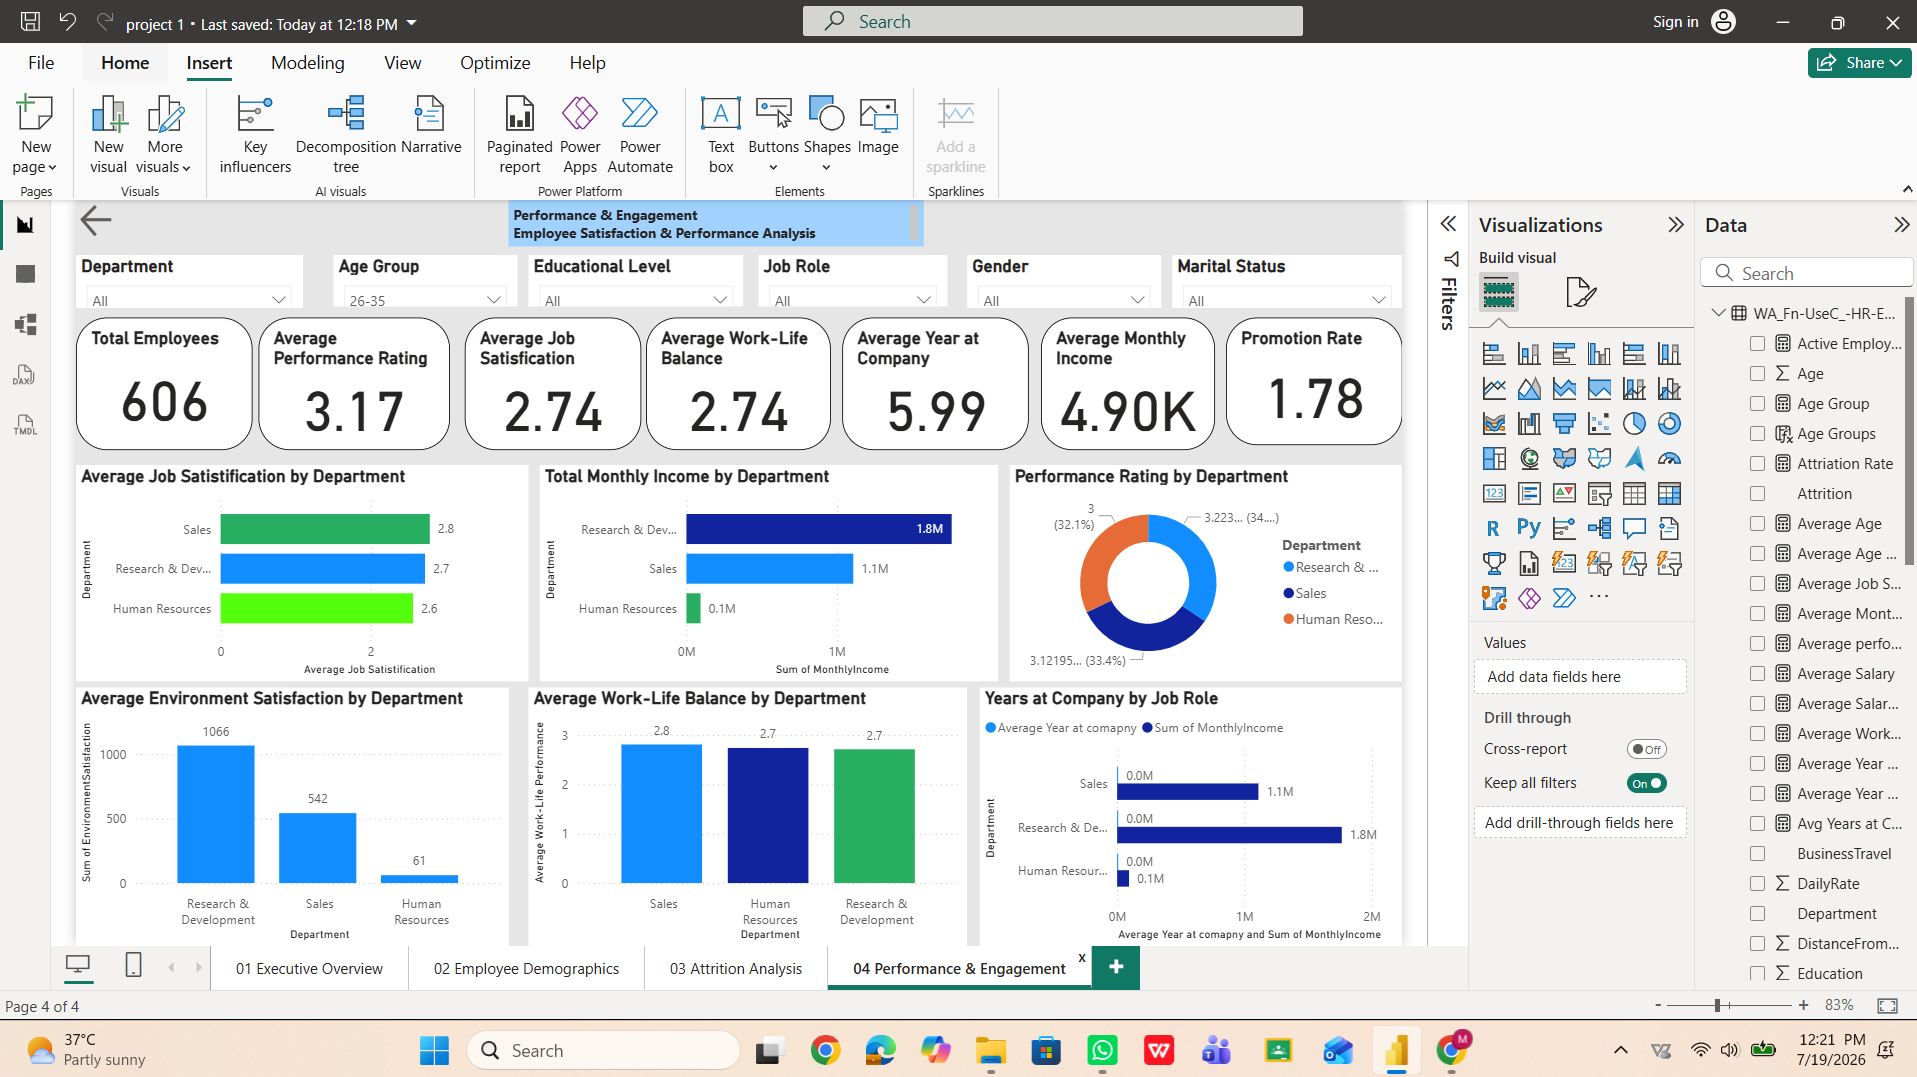

This screenshot's page, from the dashboard's own definition file:
{"tool":"powerbi","page":{"name":"04 Performance & Engagement","canvas":[1280,720],"ordinal":3},"visuals":[{"type":"card","title":"Total Employees","fields":{"Values":["WA_Fn-UseC_-HR-Employee-Attrition.Total Employee"]},"box":[0,113.4,170.1,127.9],"z":0},{"type":"card","title":"Average Performance Rating ","fields":{"Values":["WA_Fn-UseC_-HR-Employee-Attrition.Average performance Rating"]},"box":[176.1,113.4,184.6,127.9],"z":1000},{"type":"card","title":"Average Job Satisfication","fields":{"Values":["WA_Fn-UseC_-HR-Employee-Attrition.Average Job Satistification"]},"box":[375.2,113.4,170.1,127.9],"z":2000},{"type":"card","title":"Average Work-Life Balance","fields":{"Values":["WA_Fn-UseC_-HR-Employee-Attrition.Average Work-Life Performance"]},"box":[550.1,113.4,178.6,127.9],"z":3000},{"type":"card","title":"Average Year at  Company ","fields":{"Values":["WA_Fn-UseC_-HR-Employee-Attrition.Average Year at comapny"]},"box":[739.5,113.4,179.8,127.9],"z":4000},{"type":"card","title":"Average Monthly Income ","fields":{"Values":["WA_Fn-UseC_-HR-Employee-Attrition.Average Monthly Income"]},"box":[931.4,113.4,167.7,127.9],"z":5000},{"type":"clusteredBarChart","fields":{"Category":["WA_Fn-UseC_-HR-Employee-Attrition.Department"],"Y":["WA_Fn-UseC_-HR-Employee-Attrition.Average Job Satistification"]},"box":[0,255.8,436.7,208.7],"z":6000},{"type":"donutChart","title":"Performance Rating by Department","fields":{"Y":["WA_Fn-UseC_-HR-Employee-Attrition.Average performance Rating"],"Category":["WA_Fn-UseC_-HR-Employee-Attrition.Department"]},"box":[901.2,255.8,378.8,208.7],"z":7000},{"type":"clusteredBarChart","title":"Total Monthly Income by Department","fields":{"Y":["Sum(WA_Fn-UseC_-HR-Employee-Attrition.MonthlyIncome)"],"Category":["WA_Fn-UseC_-HR-Employee-Attrition.Department"]},"box":[447.6,255.8,442.8,208.7],"z":8000},{"type":"columnChart","title":"Average Work-Life Balance by Department","fields":{"Y":["WA_Fn-UseC_-HR-Employee-Attrition.Average Work-Life Performance"],"Category":["WA_Fn-UseC_-HR-Employee-Attrition.Department"]},"box":[436.7,470.5,423.5,249.7],"z":9000},{"type":"clusteredBarChart","title":"Years at Company by Job Role","fields":{"Y":["WA_Fn-UseC_-HR-Employee-Attrition.Average Year at comapny","Sum(WA_Fn-UseC_-HR-Employee-Attrition.MonthlyIncome)"],"Category":["WA_Fn-UseC_-HR-Employee-Attrition.Department"]},"box":[872.3,470.5,407.8,249.7],"z":10000},{"type":"slicer","title":"Department","fields":{"Values":["WA_Fn-UseC_-HR-Employee-Attrition.Department"]},"box":[0,53.1,218.4,50.7],"z":11000},{"type":"slicer","title":"Gender","fields":{"Values":["WA_Fn-UseC_-HR-Employee-Attrition.Gender"]},"box":[860.2,53.1,187,50.7],"z":12000},{"type":"slicer","title":"Job Role","fields":{"Values":["WA_Fn-UseC_-HR-Employee-Attrition.JobRole"]},"box":[658.7,53.1,182.2,49.5],"z":13000},{"type":"slicer","title":"Age Group","fields":{"Values":["WA_Fn-UseC_-HR-Employee-Attrition.Age Groups"]},"box":[248.5,53.1,177.3,49.5],"z":14000},{"type":"slicer","title":"Educational Level ","fields":{"Values":["WA_Fn-UseC_-HR-Employee-Attrition.Educational Column "]},"box":[436.7,53.1,207.5,49.5],"z":15000},{"type":"slicer","title":"Marital Status ","fields":{"Values":["WA_Fn-UseC_-HR-Employee-Attrition.MaritalStatus"]},"box":[1058,53.1,222,50.7],"z":16000},{"type":"clusteredColumnChart","title":"Average Environment Satisfaction by Department","fields":{"Y":["Sum(WA_Fn-UseC_-HR-Employee-Attrition.EnvironmentSatisfaction)"],"Category":["WA_Fn-UseC_-HR-Employee-Attrition.Department"]},"box":[0,470.5,417.4,249.7],"z":17000},{"type":"card","title":"Promotion Rate","fields":{"Values":["WA_Fn-UseC_-HR-Employee-Attrition.Promotion Rate"]},"box":[1109.9,113.4,170.1,123.1],"z":17001},{"type":"textbox","box":[417.4,0,400.5,44.6],"z":17002},{"type":"actionButton","box":[0,0,100,40],"z":17003}]}

Visuals, with their boxes on the page's 1280x720 design canvas (x1, y1, x2, y2). These are canvas units, not pixel positions in the 1917x1077 screenshot, which may show the page scaled, cropped or inside an application window:
"Total Employees" card: [left=0, top=113, right=170, bottom=241]
"Average Performance Rating " card: [left=176, top=113, right=361, bottom=241]
"Average Job Satisfication" card: [left=375, top=113, right=545, bottom=241]
"Average Work-Life Balance" card: [left=550, top=113, right=729, bottom=241]
"Average Year at  Company " card: [left=740, top=113, right=919, bottom=241]
"Average Monthly Income " card: [left=931, top=113, right=1099, bottom=241]
clusteredBarChart - WA_Fn-UseC_-HR-Employee-Attrition.Department x WA_Fn-UseC_-HR-Employee-Attrition.Average Job Satistification: [left=0, top=256, right=437, bottom=464]
"Performance Rating by Department" donutChart: [left=901, top=256, right=1280, bottom=464]
"Total Monthly Income by Department" clusteredBarChart: [left=448, top=256, right=890, bottom=464]
"Average Work-Life Balance by Department" columnChart: [left=437, top=470, right=860, bottom=720]
"Years at Company by Job Role" clusteredBarChart: [left=872, top=470, right=1280, bottom=720]
"Department" slicer: [left=0, top=53, right=218, bottom=104]
"Gender" slicer: [left=860, top=53, right=1047, bottom=104]
"Job Role" slicer: [left=659, top=53, right=841, bottom=103]
"Age Group" slicer: [left=248, top=53, right=426, bottom=103]
"Educational Level " slicer: [left=437, top=53, right=644, bottom=103]
"Marital Status " slicer: [left=1058, top=53, right=1280, bottom=104]
"Average Environment Satisfaction by Department" clusteredColumnChart: [left=0, top=470, right=417, bottom=720]
"Promotion Rate" card: [left=1110, top=113, right=1280, bottom=236]
textbox: [left=417, top=0, right=818, bottom=45]
actionButton: [left=0, top=0, right=100, bottom=40]
